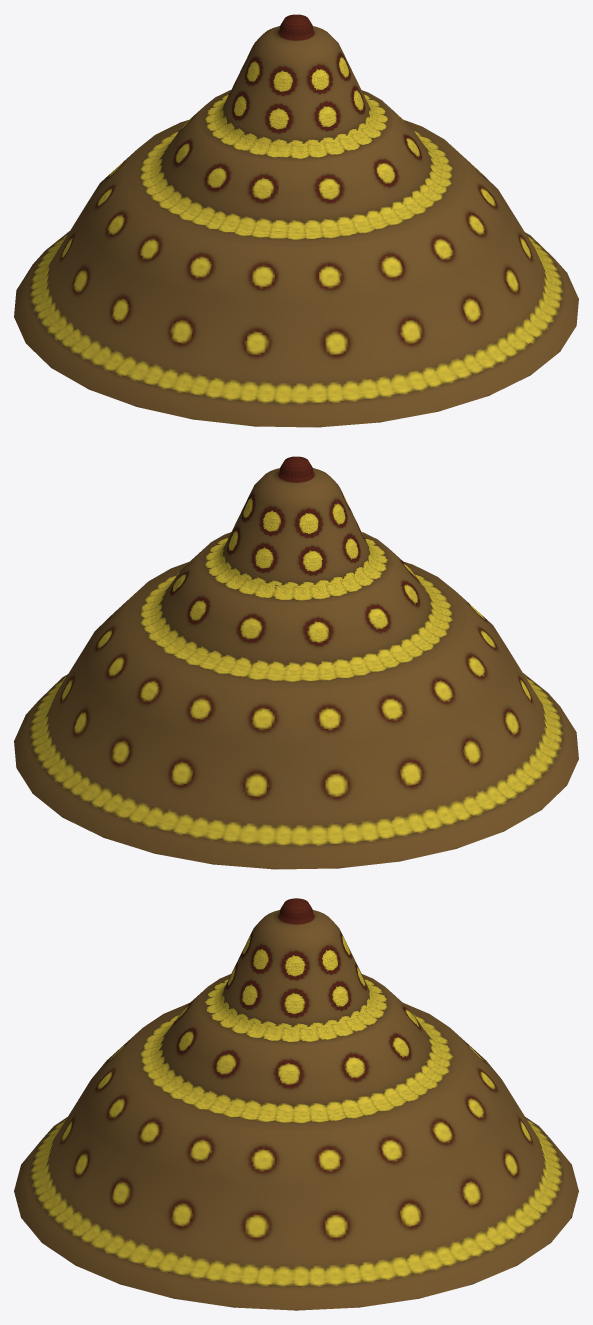
The picture shows the model from 3 angles, top to bottom: view 1: azimuth 30°, elevation 25°; view 2: azimuth 150°, elevation 25°; view 3: azimuth 270°, elevation 25°; orthographic projection.
Parts seen in each view (by area): view 1: Low; view 2: Low; view 3: Low.
Boxes of the visible parts, x1,y1,x2,y2 form: Low: [14, 14, 578, 427]; Low: [14, 456, 578, 869]; Low: [14, 898, 578, 1310].
Size of the model in its own units: 200 by 114 by 200.
1 material, 1 textured.
